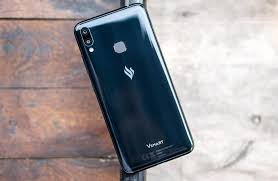vsmart: (74, 4, 196, 174)
